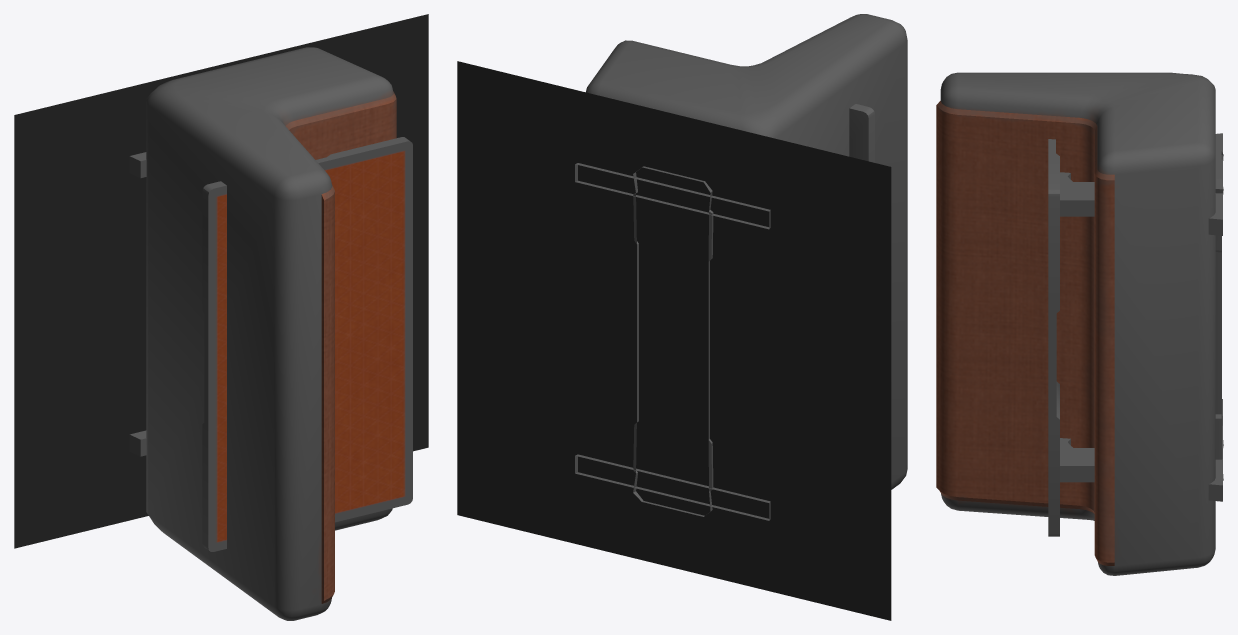
The model's file is table-sofa-36fa1b.glb.
3 views of the same model, side by side, from view 1: azimuth 30°, elevation 25°; view 2: azimuth 150°, elevation 25°; view 3: azimuth 270°, elevation 25° (orthographic). The views are drawn at different scales.
Parts seen in each view (by area): view 1: PropMesh; view 2: PropMesh; view 3: PropMesh.
Boxes of the visible parts, x1,y1,x2,y2 form: PropMesh: [14, 14, 428, 620]; PropMesh: [457, 14, 907, 620]; PropMesh: [936, 72, 1223, 575].
Bounding box in the file's own units: 2 × 2.05 × 1.26.
Materials: 2 (1 with a texture image).
